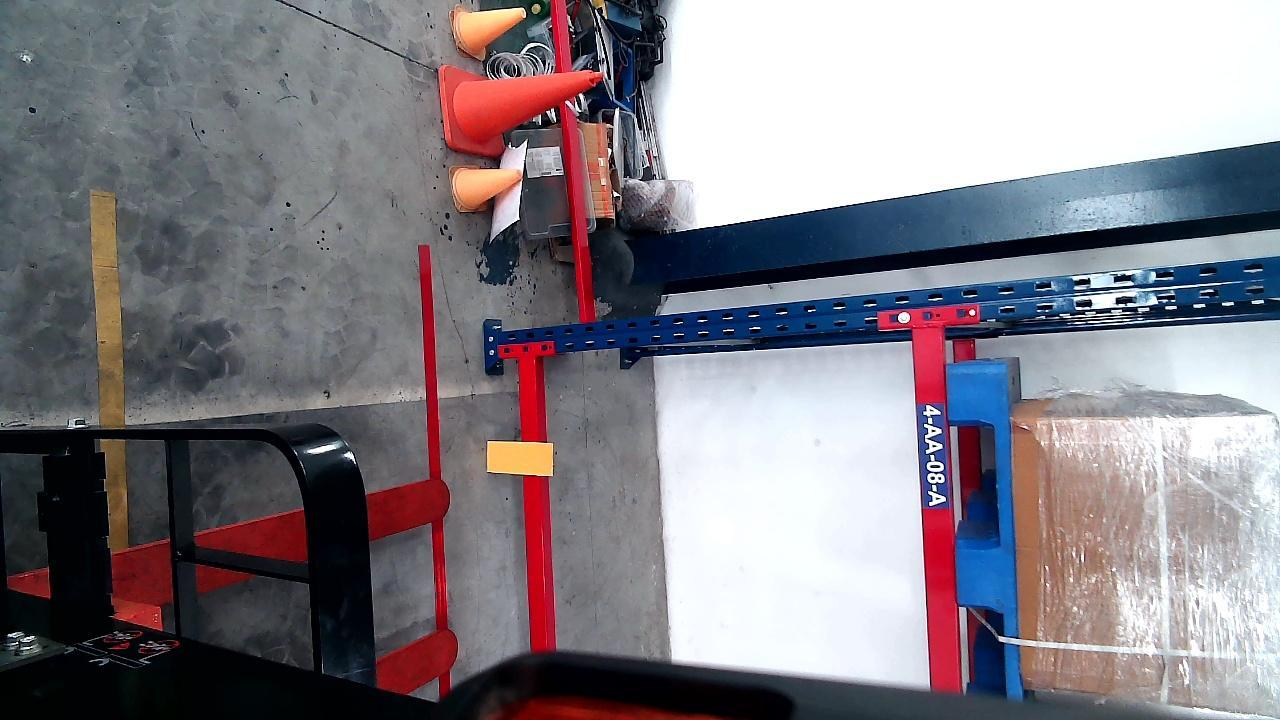red_line: (417, 239, 455, 697)
yellow_line: (89, 180, 129, 557)
